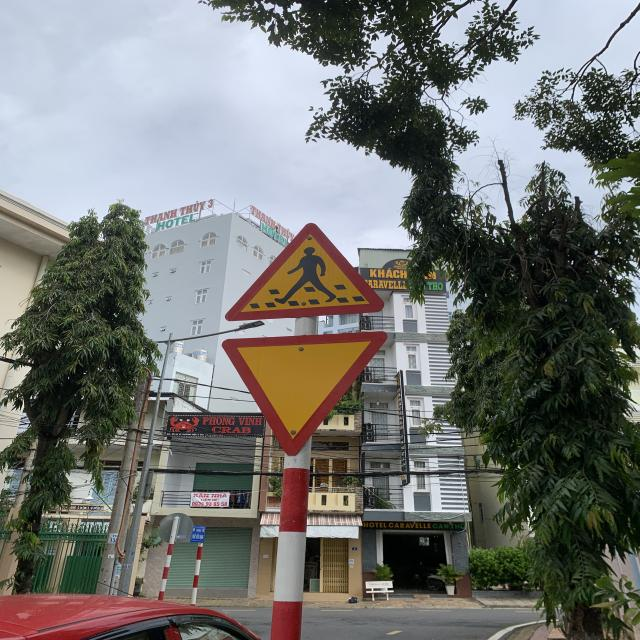Duong_Nguoi_Di_Bo_Sang_Ngang: (223, 222, 386, 324)
Gioi_Han_Toc_Do_25: (225, 336, 388, 454)
